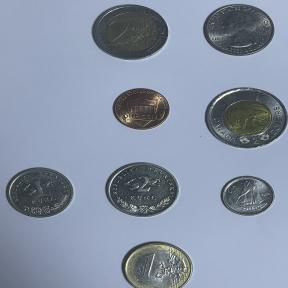1 Euro: (115, 237, 198, 288)
2 Euro: (88, 3, 174, 63)
Canda-10cent-: (217, 174, 279, 218)
Canda-2Dollar-: (200, 83, 288, 153)
Croatia-2Kune-: (102, 160, 184, 222)
US-1cent-: (107, 85, 176, 133)
US-25cent-: (197, 1, 278, 60)
